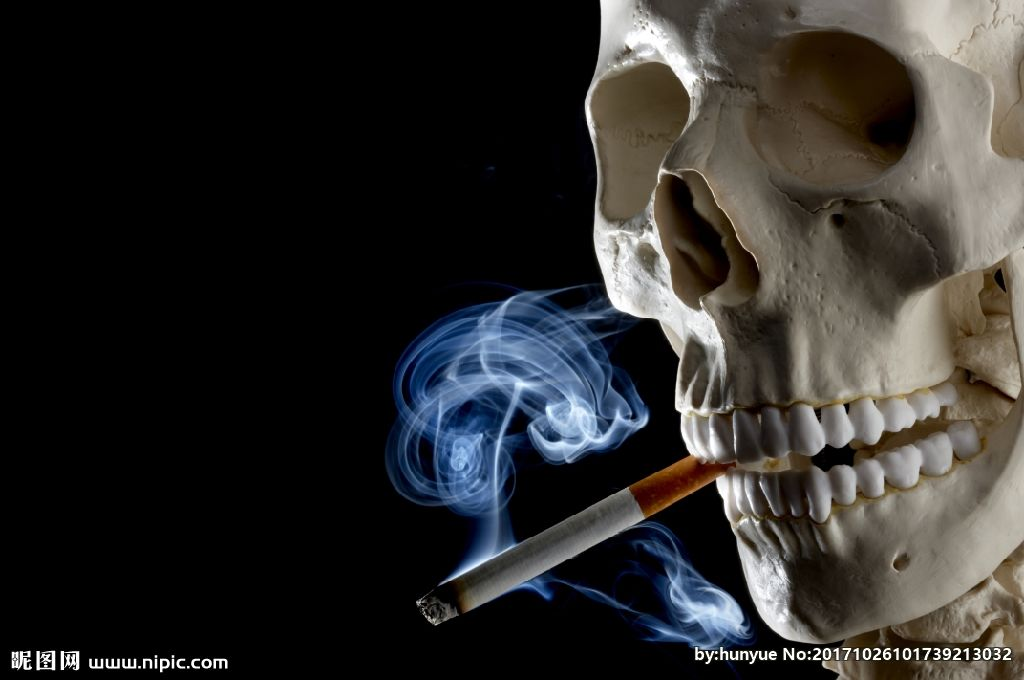yanwu: (388, 285, 648, 563)
